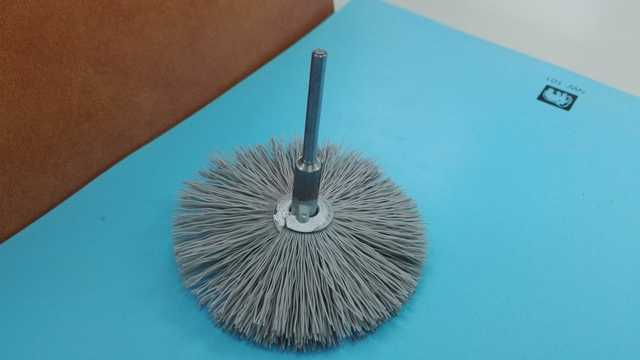TOOL: (105, 31, 495, 358), (142, 106, 472, 359), (154, 124, 441, 352)
